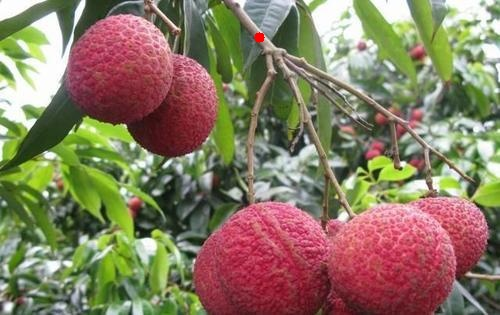litchi: (193, 198, 485, 315), (74, 18, 209, 153)
stem: (222, 1, 290, 64)
